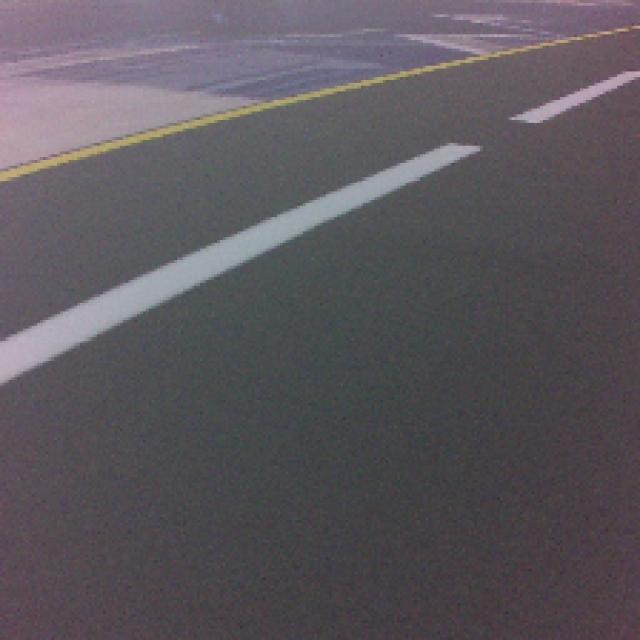Road: (0, 301, 638, 640)
